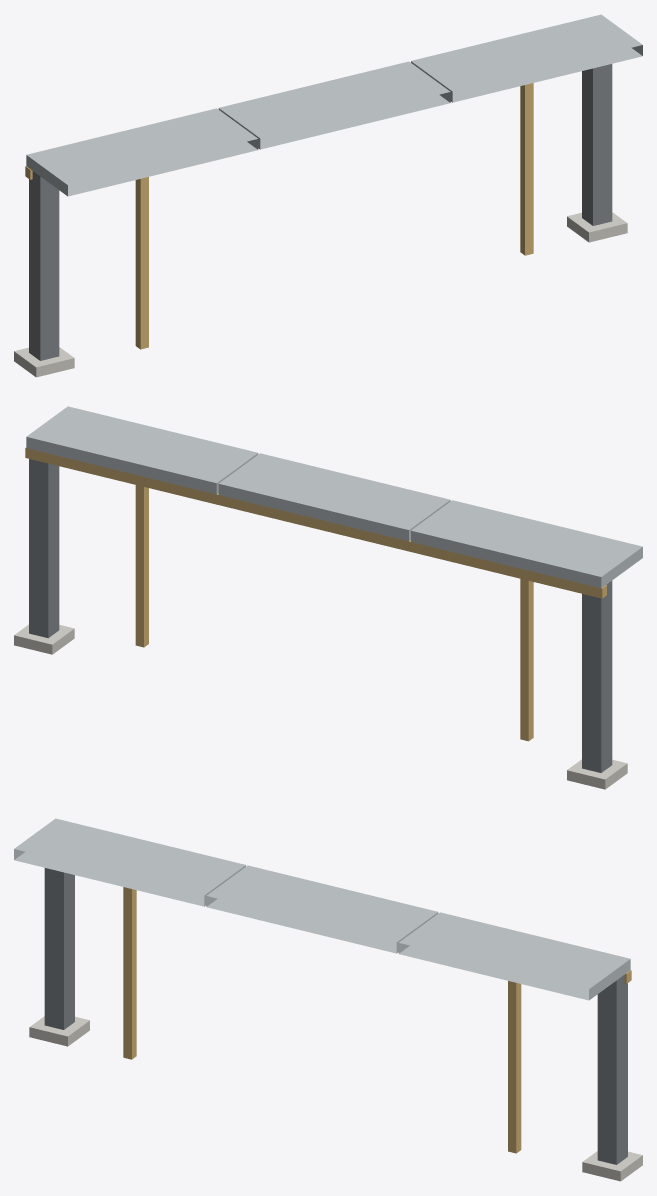
Rendered from lunar-5-4.glb.
3 renders of one model, top to bottom at view 1: azimuth 30°, elevation 25°; view 2: azimuth 150°, elevation 25°; view 3: azimuth 330°, elevation 25°, orthographic.
Parts seen in each view (by area): view 1: lunar-5-4; view 2: lunar-5-4; view 3: lunar-5-4.
Boxes of the visible parts, box(x1,y1,x2,y2) form: lunar-5-4: box(14, 14, 642, 377); lunar-5-4: box(14, 406, 642, 789); lunar-5-4: box(14, 818, 642, 1181).
Bounding box in the file's own units: 49.2 × 16.5 × 6.6.
